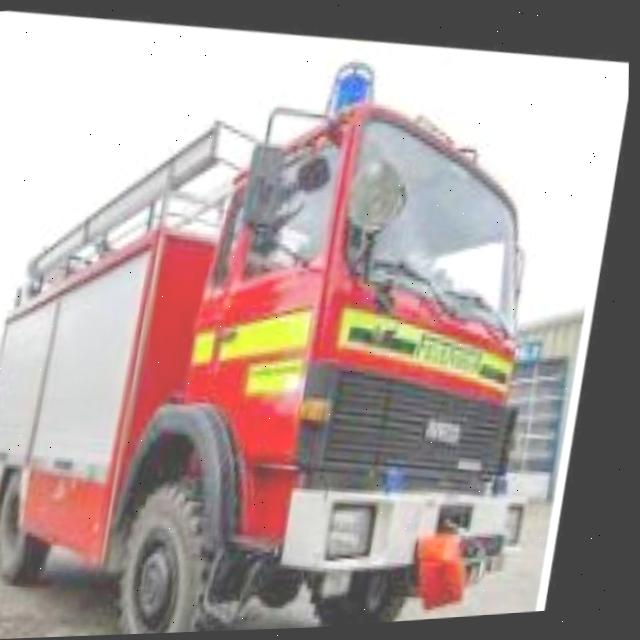emergency: (0, 46, 551, 640)
